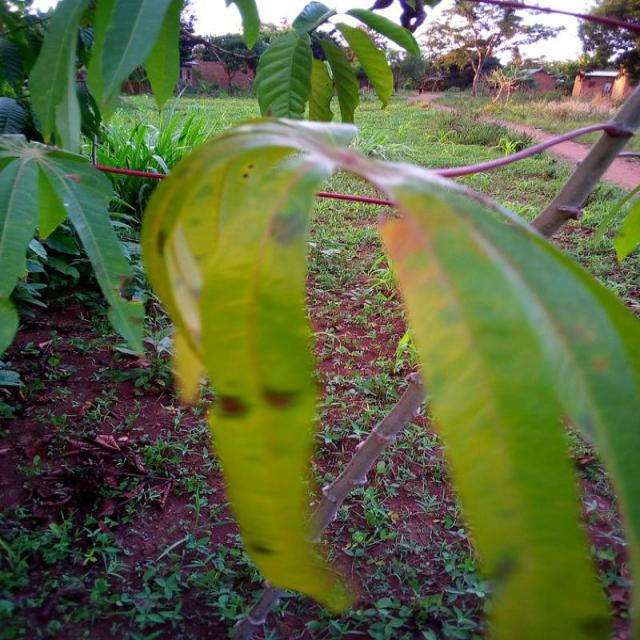cassava leaf: (140, 115, 638, 638), (374, 158, 638, 638), (139, 114, 371, 617), (0, 133, 145, 360)
